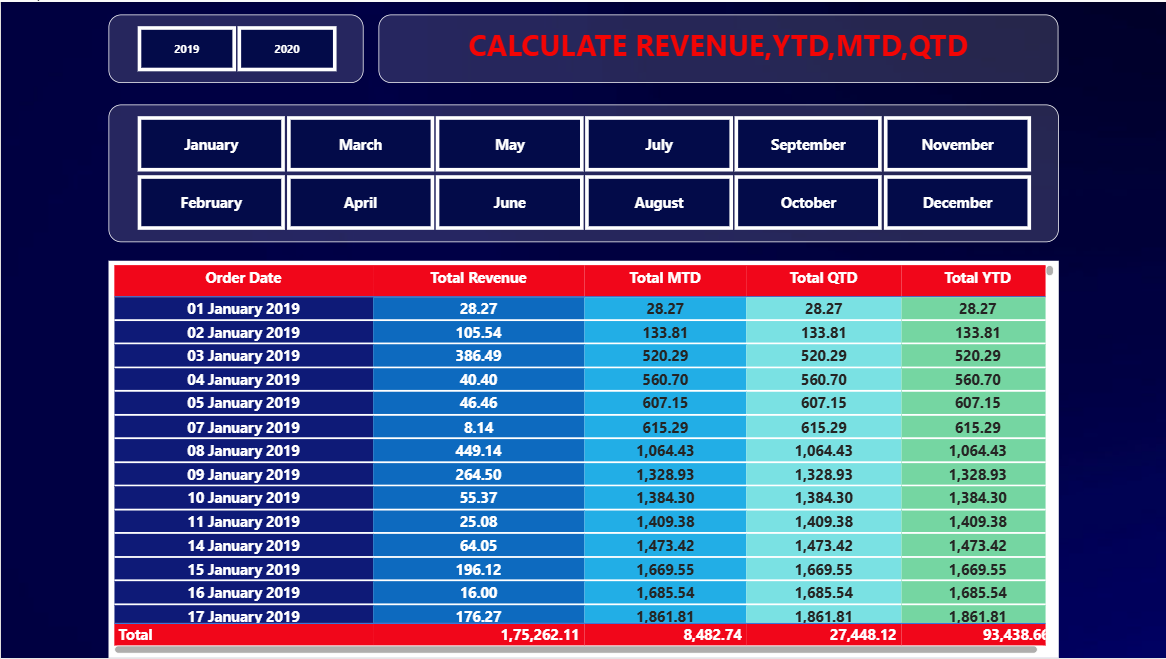

What the dashboard file says about the page in this screenshot:
{"tool":"powerbi","page":{"name":"DATE WISE ANALYSIS","canvas":[1280,720],"ordinal":2},"visuals":[{"type":"tableEx","fields":{"Values":["SuperStore_Sales_Dataset for power bi.Order Date","SuperStore_Sales_Dataset for power bi.Total Revenue","SuperStore_Sales_Dataset for power bi.Total MTD","SuperStore_Sales_Dataset for power bi.Total QTD","SuperStore_Sales_Dataset for power bi.Total YTD"]},"box":[118,284,1042.9,436.4],"z":0},{"type":"slicer","fields":{"Values":["SuperStore_Sales_Dataset for power bi.Order Date.Variation.Date Hierarchy.Year"]},"box":[118,13.7,279.9,75.5],"z":1000},{"type":"textbox","box":[414.4,13.7,746.5,75.5],"z":2000},{"type":"slicer","fields":{"Values":["SuperStore_Sales_Dataset for power bi.Order Date.Variation.Date Hierarchy.Month"]},"box":[118,112.5,1042.9,150.9],"z":3000}]}

Visuals, with their boxes in screenshot pixels (x1, y1, x2, y2), scaled from the page's 1280x720 canvas onto the 1166x659 screenshot:
tableEx - SuperStore_Sales_Dataset for power bi.Order Date x SuperStore_Sales_Dataset for power bi.Total Revenue: 107:260:1058:658
slicer - SuperStore_Sales_Dataset for power bi.Order Date.Variation.Date Hierarchy.Year: 107:13:362:82
textbox: 377:13:1058:82
slicer - SuperStore_Sales_Dataset for power bi.Order Date.Variation.Date Hierarchy.Month: 107:103:1058:241
